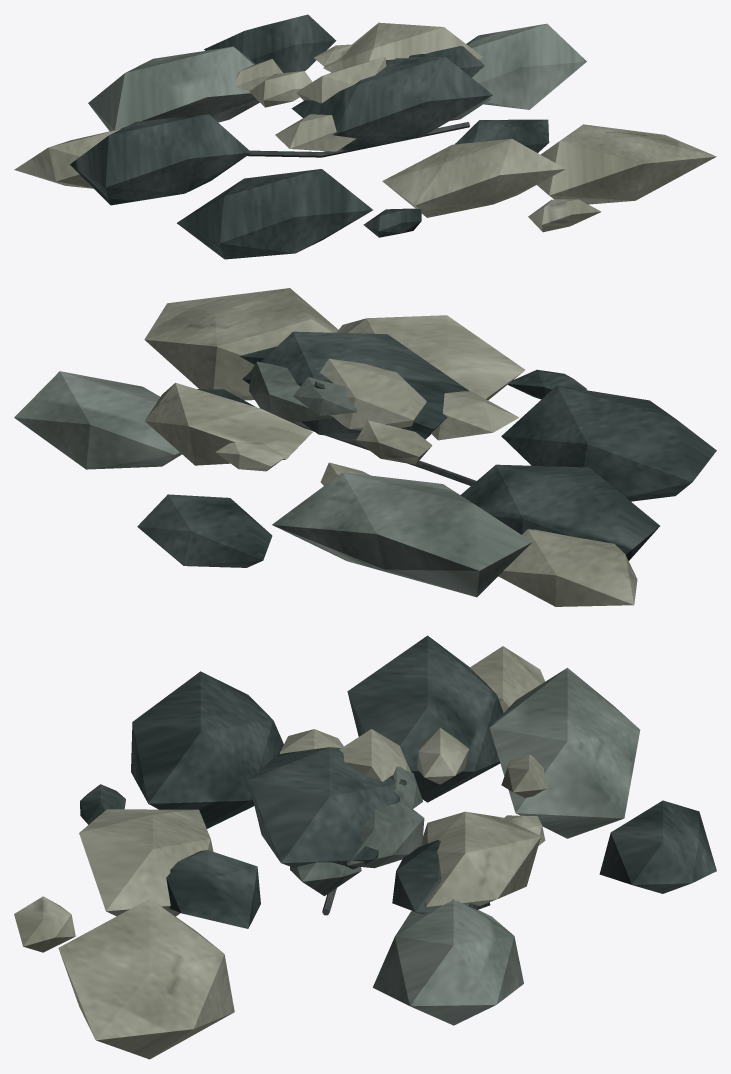
Rendered from 0106_scree_pile_06.glb.
3 renders of one model, top to bottom at view 1: azimuth 30°, elevation 25°; view 2: azimuth 150°, elevation 25°; view 3: azimuth 270°, elevation 25°, orthographic. The views are drawn at different scales.
Visible parts, largest first — view 1: stone_dark, stone_light, stone, iron; view 2: stone_light, stone_dark, stone, iron; view 3: stone_dark, stone_light, stone.
Boxes of the visible parts, x1,y1,x2,y2 form: stone_dark: [70, 14, 549, 259]; stone_light: [14, 22, 716, 232]; stone: [88, 23, 586, 131]; iron: [247, 122, 469, 157]; stone_light: [144, 288, 637, 606]; stone_dark: [137, 331, 716, 567]; stone: [14, 361, 532, 597]; iron: [292, 421, 476, 485]; stone_dark: [80, 635, 716, 928]; stone_light: [14, 646, 547, 1059]; stone: [290, 668, 640, 1025].
Size of the model in its own units: 3.35 by 0.6898 by 2.7.
Materials: 4 (4 with a texture image).
